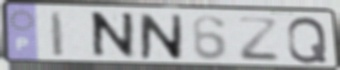6: (190, 14, 230, 63)
I: (48, 11, 67, 60)
N: (90, 10, 137, 61), (138, 13, 185, 62)
Q: (285, 15, 330, 65)
Z: (235, 15, 281, 63)
